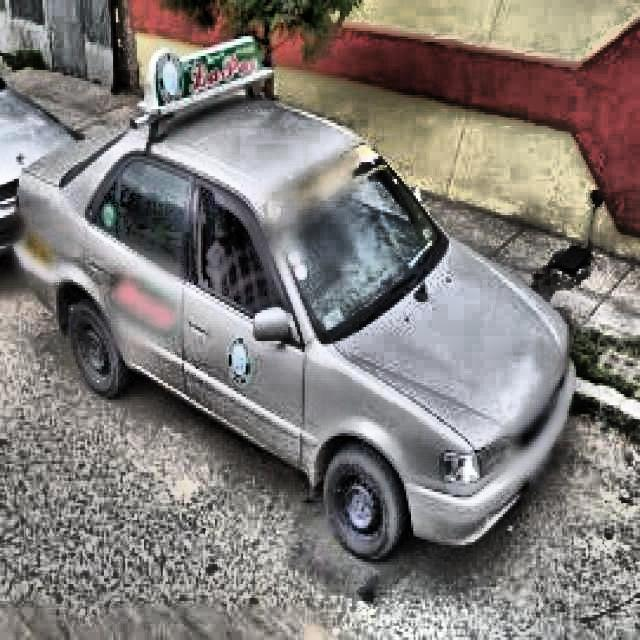carro: (12, 75, 580, 552)
